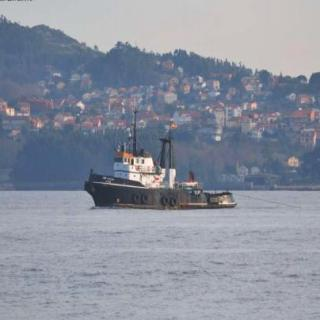Tug Boat: (86, 95, 230, 209)
